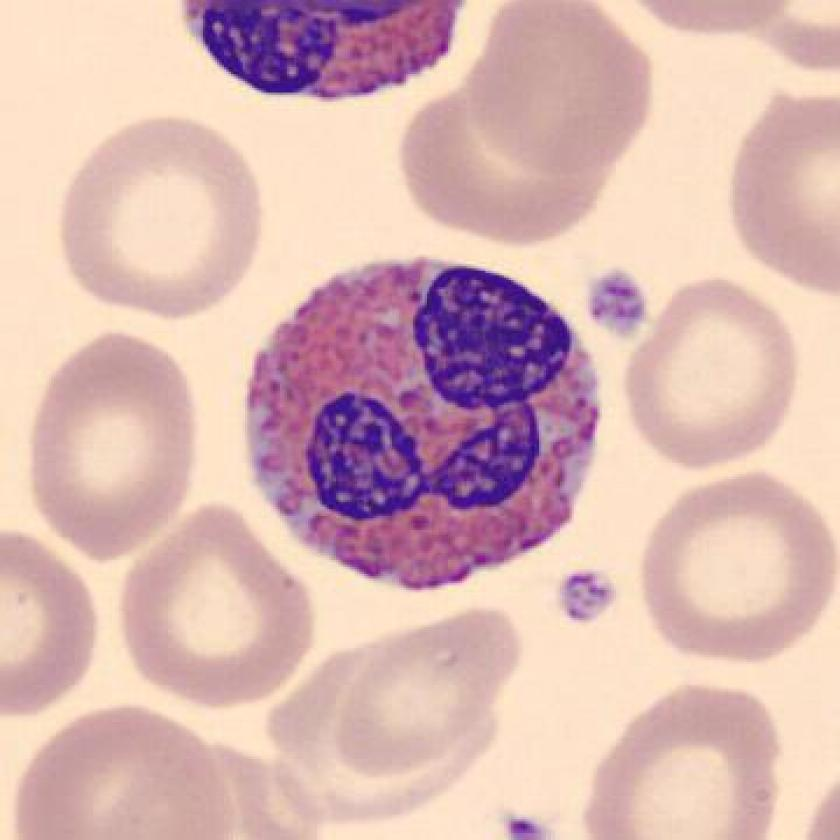eosinophil: (237, 246, 615, 598)
